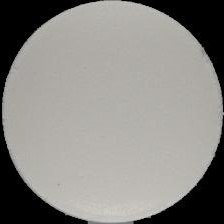52125-105: (0, 0, 224, 224)
